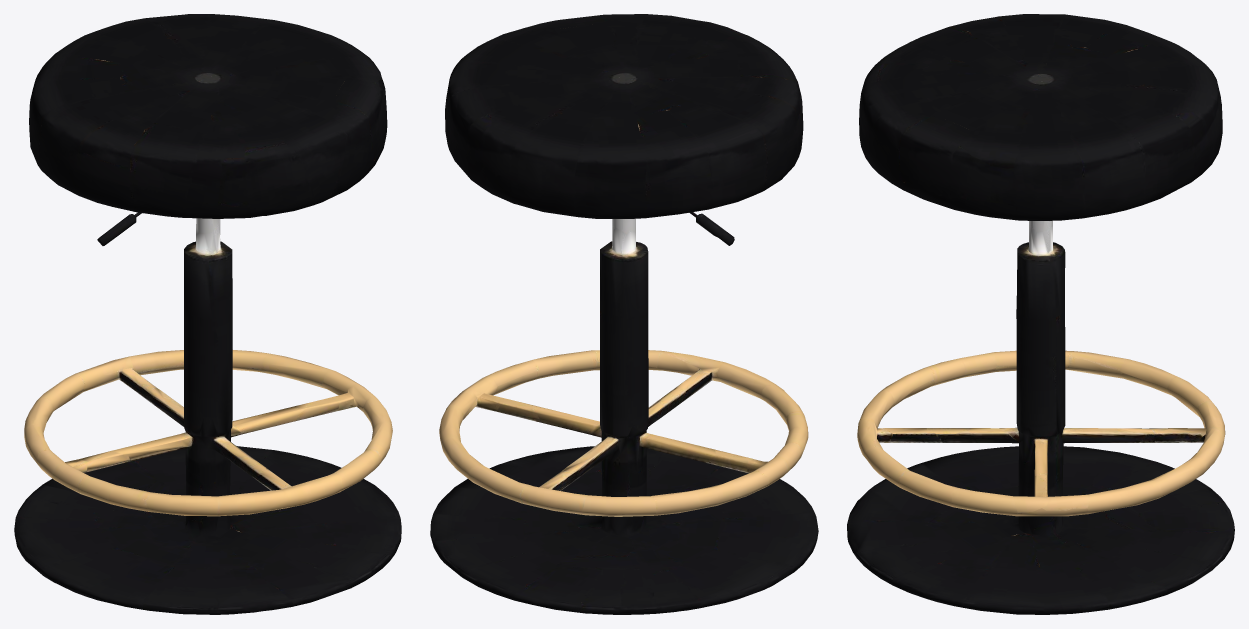
Rendered from stool.glb.
The picture shows the model from 3 angles, left to right: view 1: azimuth 30°, elevation 25°; view 2: azimuth 150°, elevation 25°; view 3: azimuth 270°, elevation 25°; orthographic projection.
Size of the model in its own units: 1.45 by 1.9 by 1.45.
1 material, 1 textured.
